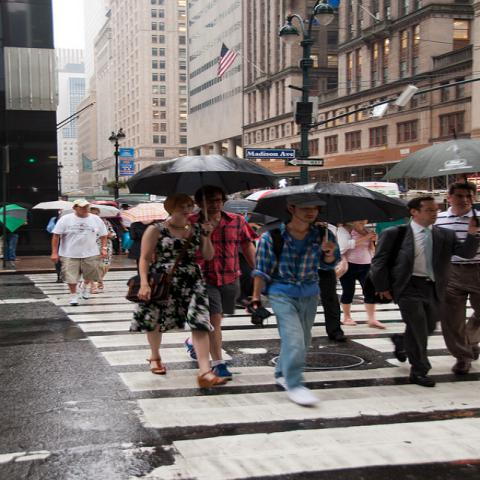truck: (356, 182, 402, 198)
